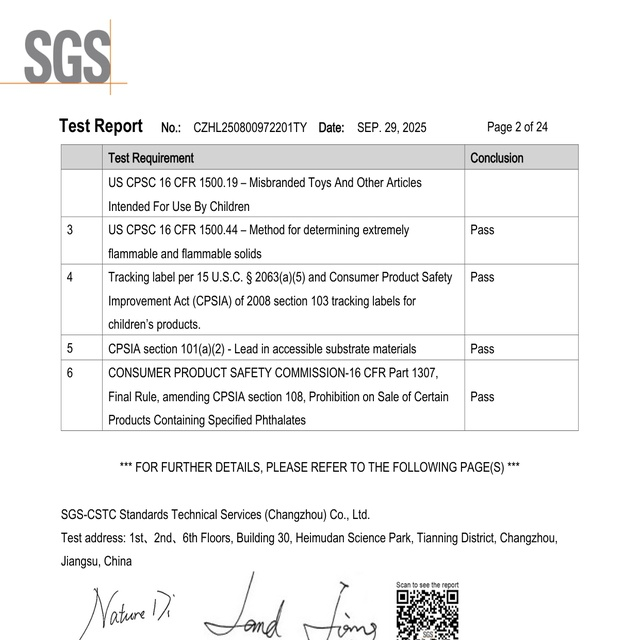sgs: (25, 29, 112, 84)
